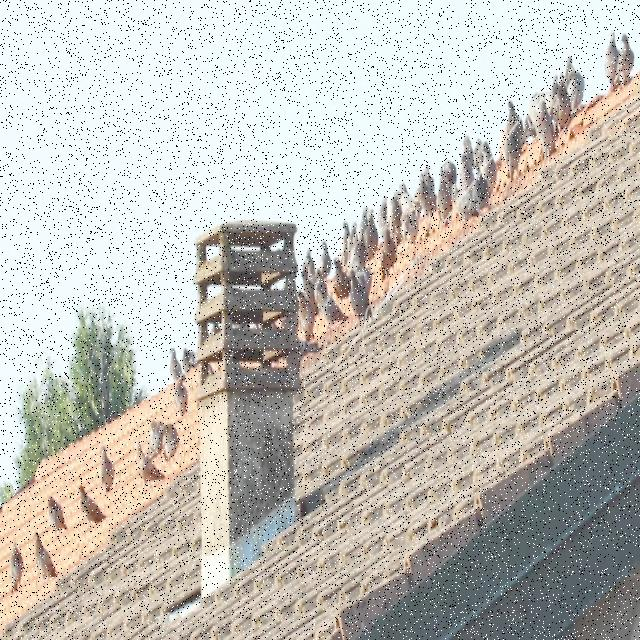bird: (527, 91, 557, 159), (504, 100, 524, 180), (136, 441, 166, 488), (437, 160, 458, 227), (348, 268, 373, 324), (79, 484, 107, 530), (613, 34, 635, 90), (34, 533, 58, 583), (565, 56, 585, 112), (452, 185, 480, 222), (604, 30, 620, 90), (556, 74, 572, 134), (418, 165, 436, 215), (48, 496, 68, 534), (316, 240, 332, 282), (173, 372, 188, 416), (10, 544, 23, 594), (100, 446, 114, 492), (148, 419, 164, 458), (545, 74, 559, 118), (168, 347, 184, 382), (302, 248, 316, 284), (182, 348, 196, 372), (524, 114, 536, 138)
